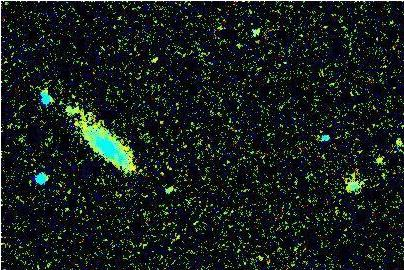star: (144, 46, 174, 76)
